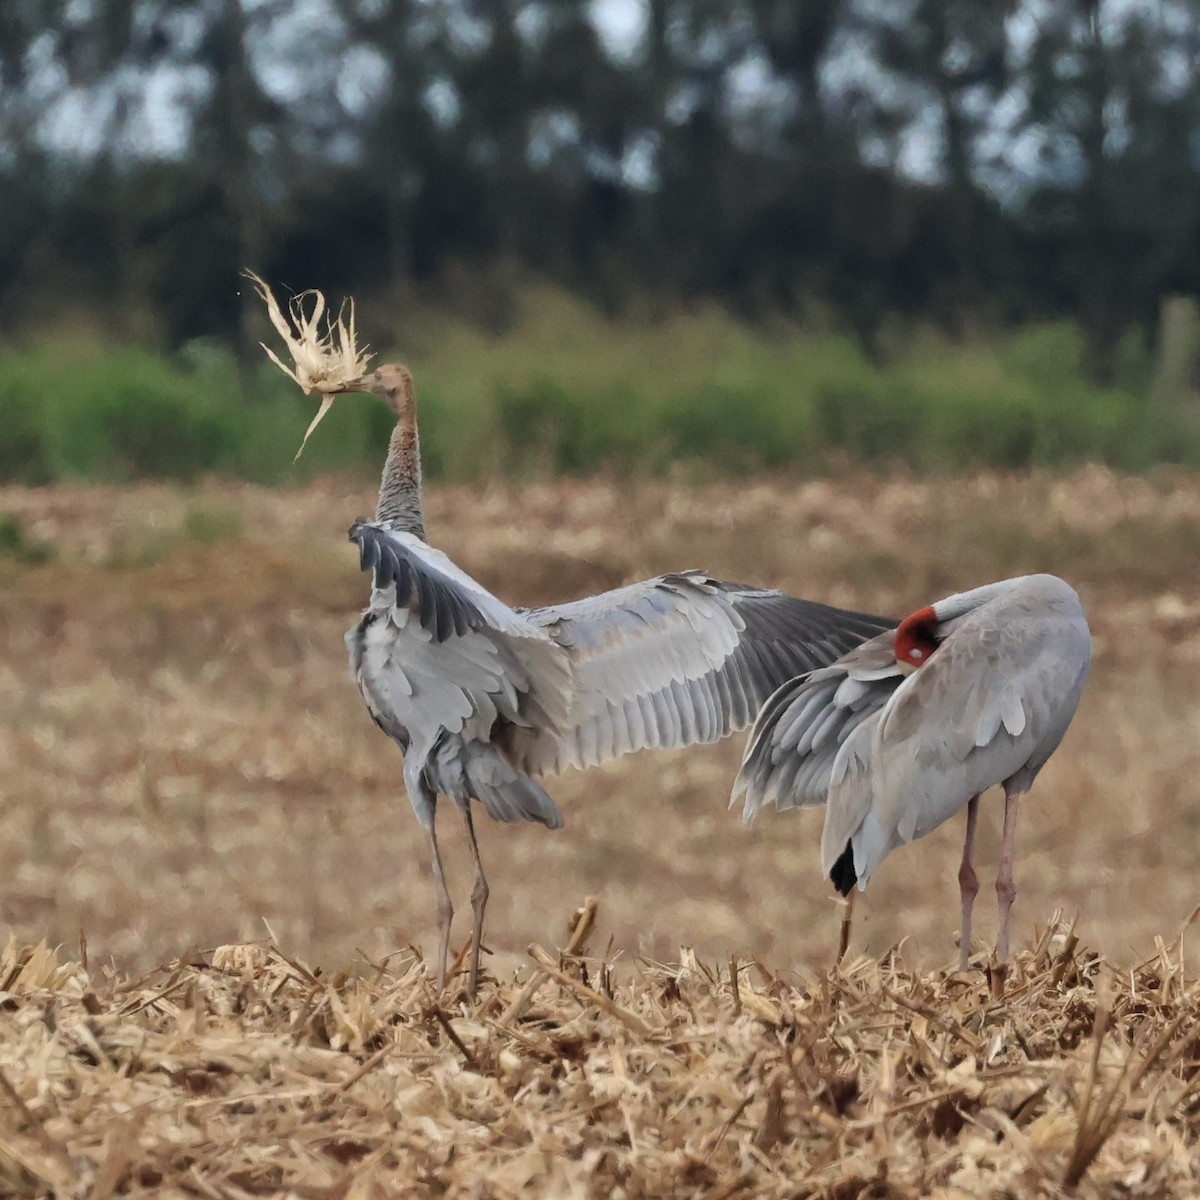crane: (243, 271, 764, 1000), (743, 526, 1098, 1016)
